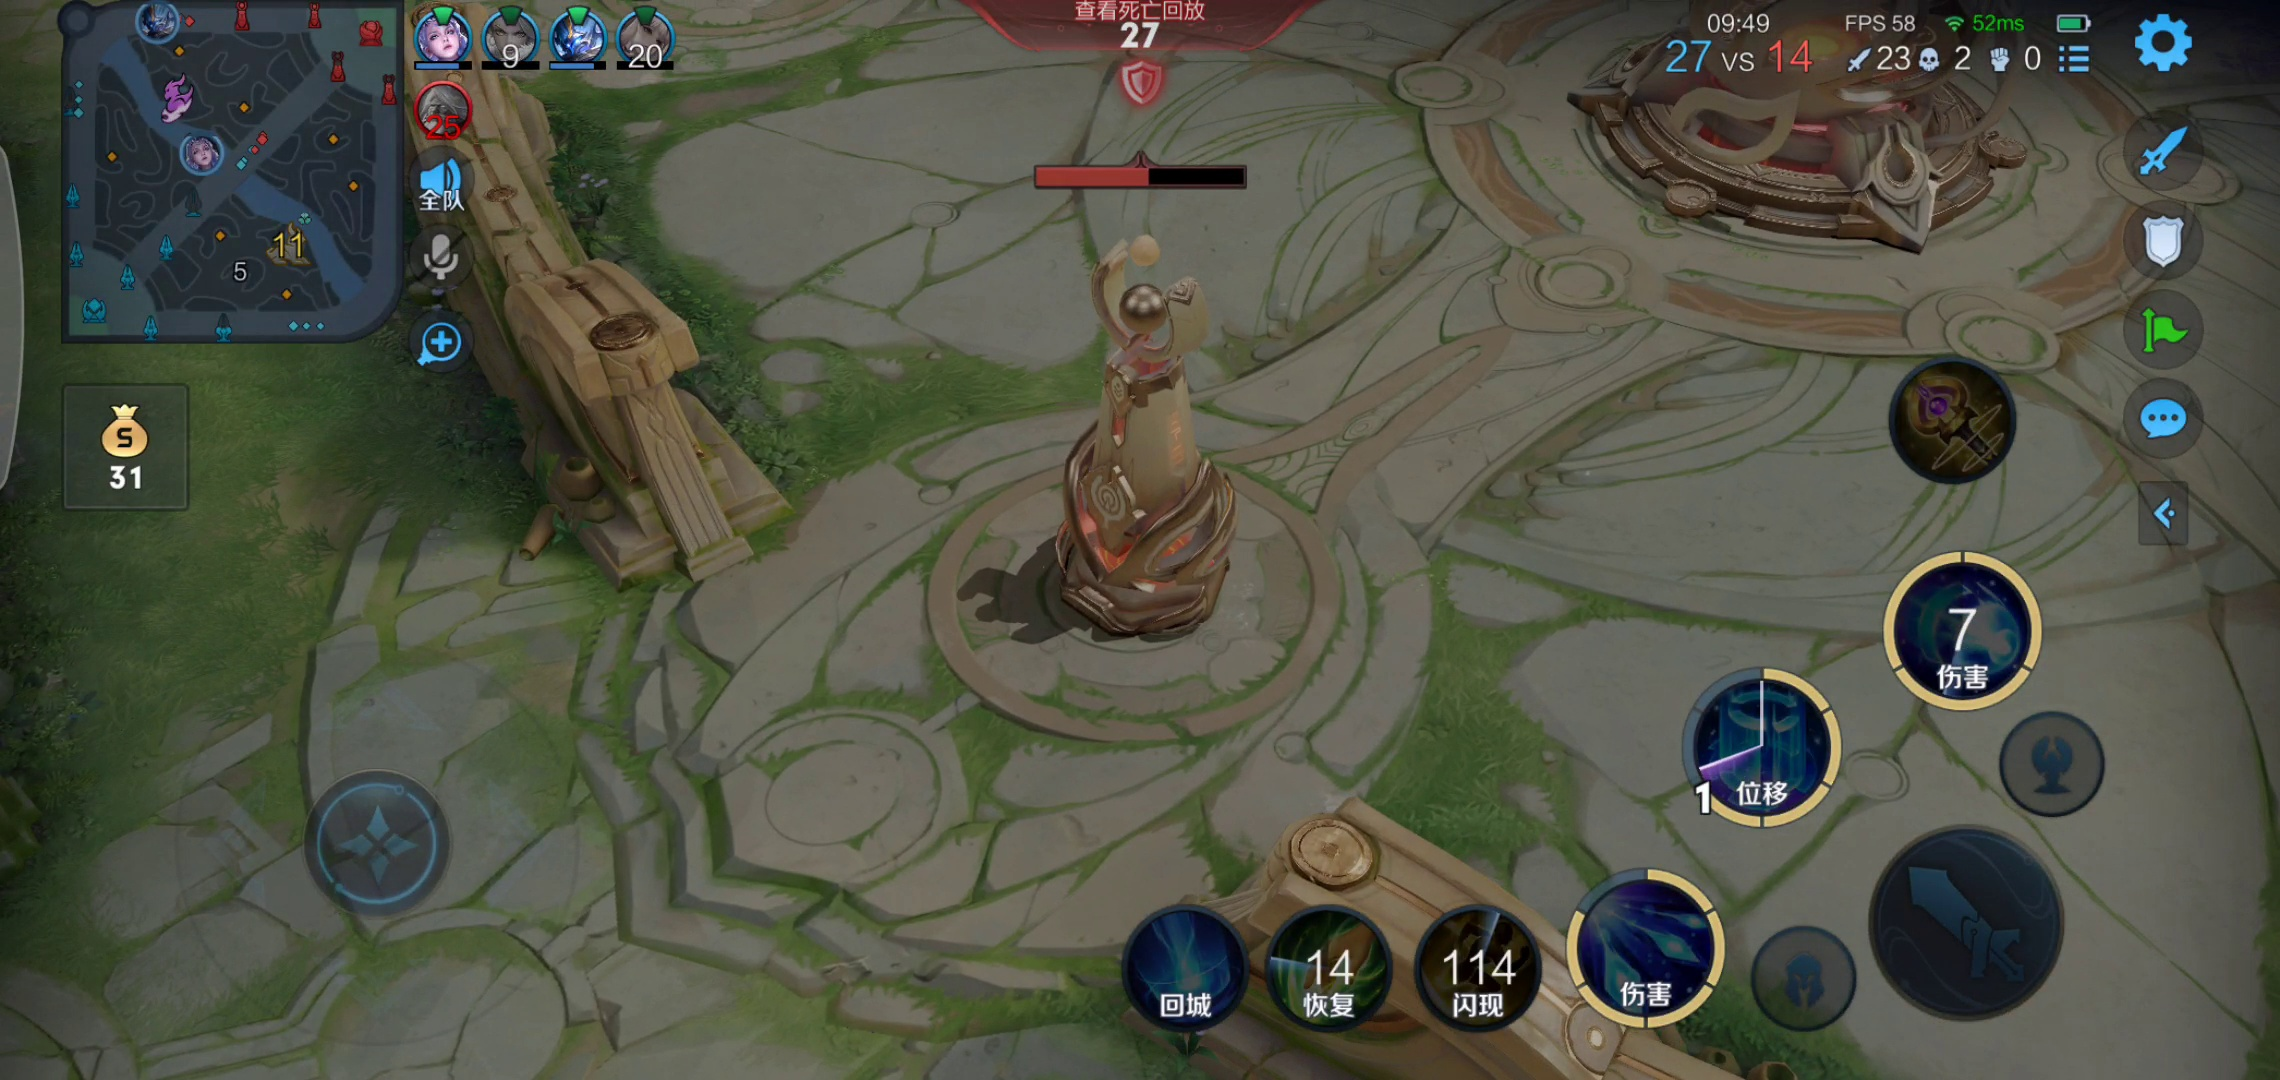crystal: (1562, 7, 2039, 259)
tower: (1003, 219, 1301, 667)
